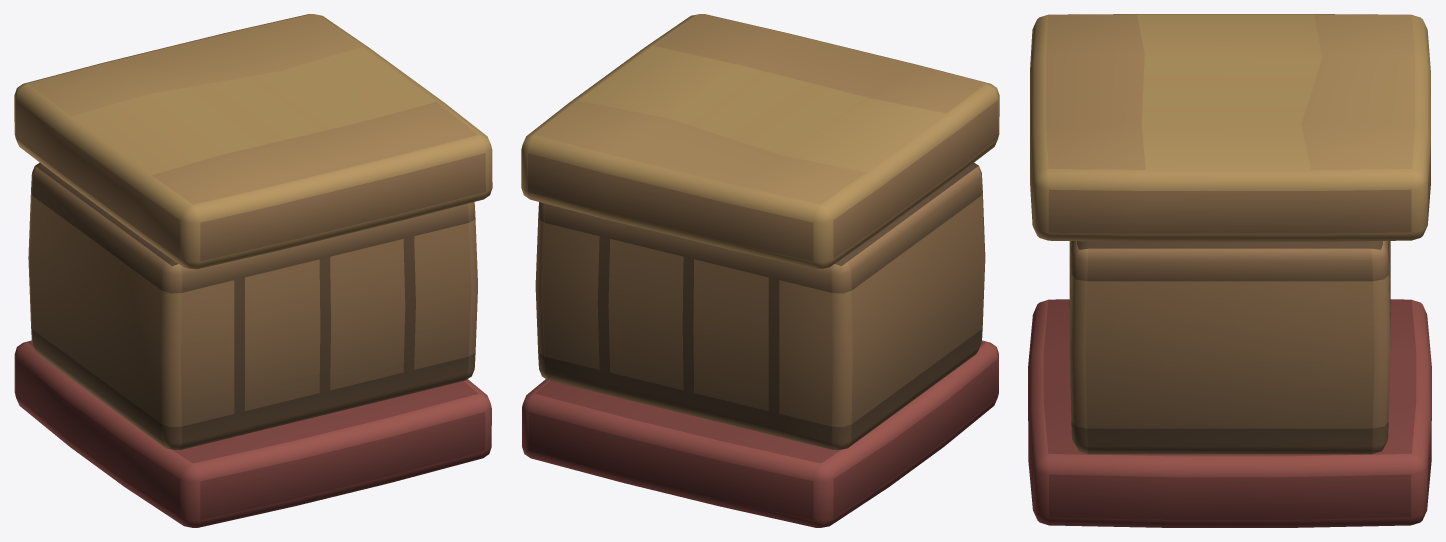
The model's file is tavern_counter_part.fbx.
3 views of the same model, side by side, from view 1: azimuth 30°, elevation 25°; view 2: azimuth 150°, elevation 25°; view 3: azimuth 270°, elevation 25° (orthographic). The views are drawn at different scales.
Visible parts, largest first — view 1: tavern_counter_part_LOD0; view 2: tavern_counter_part_LOD0; view 3: tavern_counter_part_LOD0.
Part boxes in pixels (x1,y1,x2,y2): tavern_counter_part_LOD0: (14,14,492,527); tavern_counter_part_LOD0: (521,14,999,527); tavern_counter_part_LOD0: (1028,14,1431,527).
Size of what is drawn, in the model's own units: 103 by 100 by 103.
